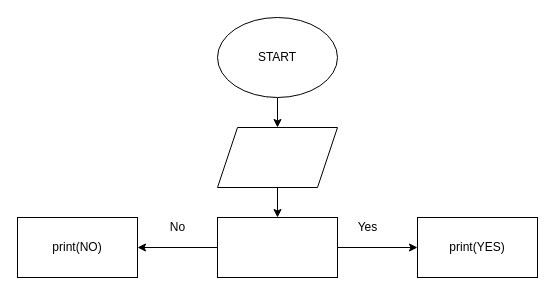
Image size: 555x295. Some labels were removed from this diagram. Each missing label, with the centre of its shape:
"a = 4 result = a / 2" belongs at (277,157).
"result = int?" belongs at (277,247).
